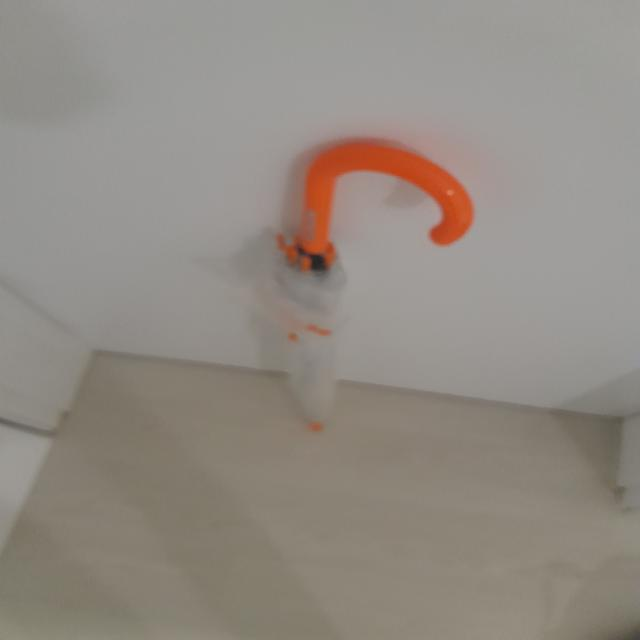umbrella: (252, 142, 472, 438)
